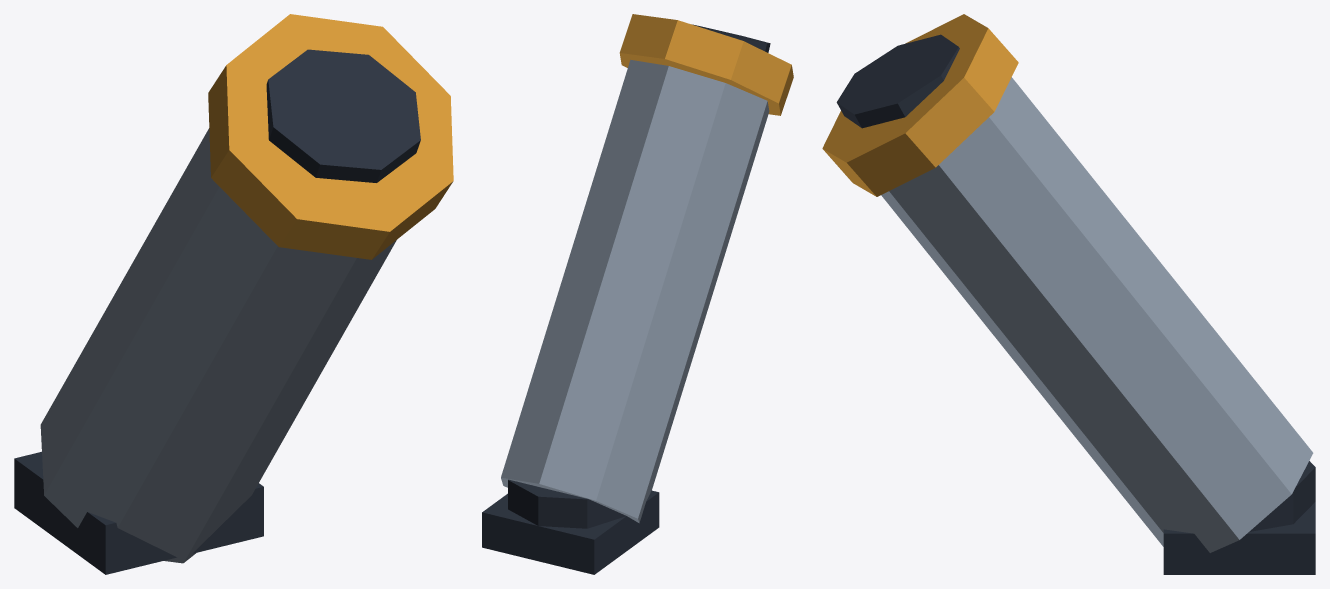
Rendered from MortarBarrel.obj.
The picture shows the model from 3 angles, left to right: view 1: azimuth 30°, elevation 25°; view 2: azimuth 150°, elevation 25°; view 3: azimuth 270°, elevation 25°; orthographic projection. The views are drawn at different scales.
Parts seen in each view (by area): view 1: MortarBarrel; view 2: MortarBarrel; view 3: MortarBarrel.
Boxes of the visible parts, bbox=[...] form: MortarBarrel: bbox=[14, 14, 453, 574]; MortarBarrel: bbox=[482, 14, 793, 574]; MortarBarrel: bbox=[822, 14, 1315, 574].
Size of the model in its own units: 0.28 by 0.758 by 0.6493.
